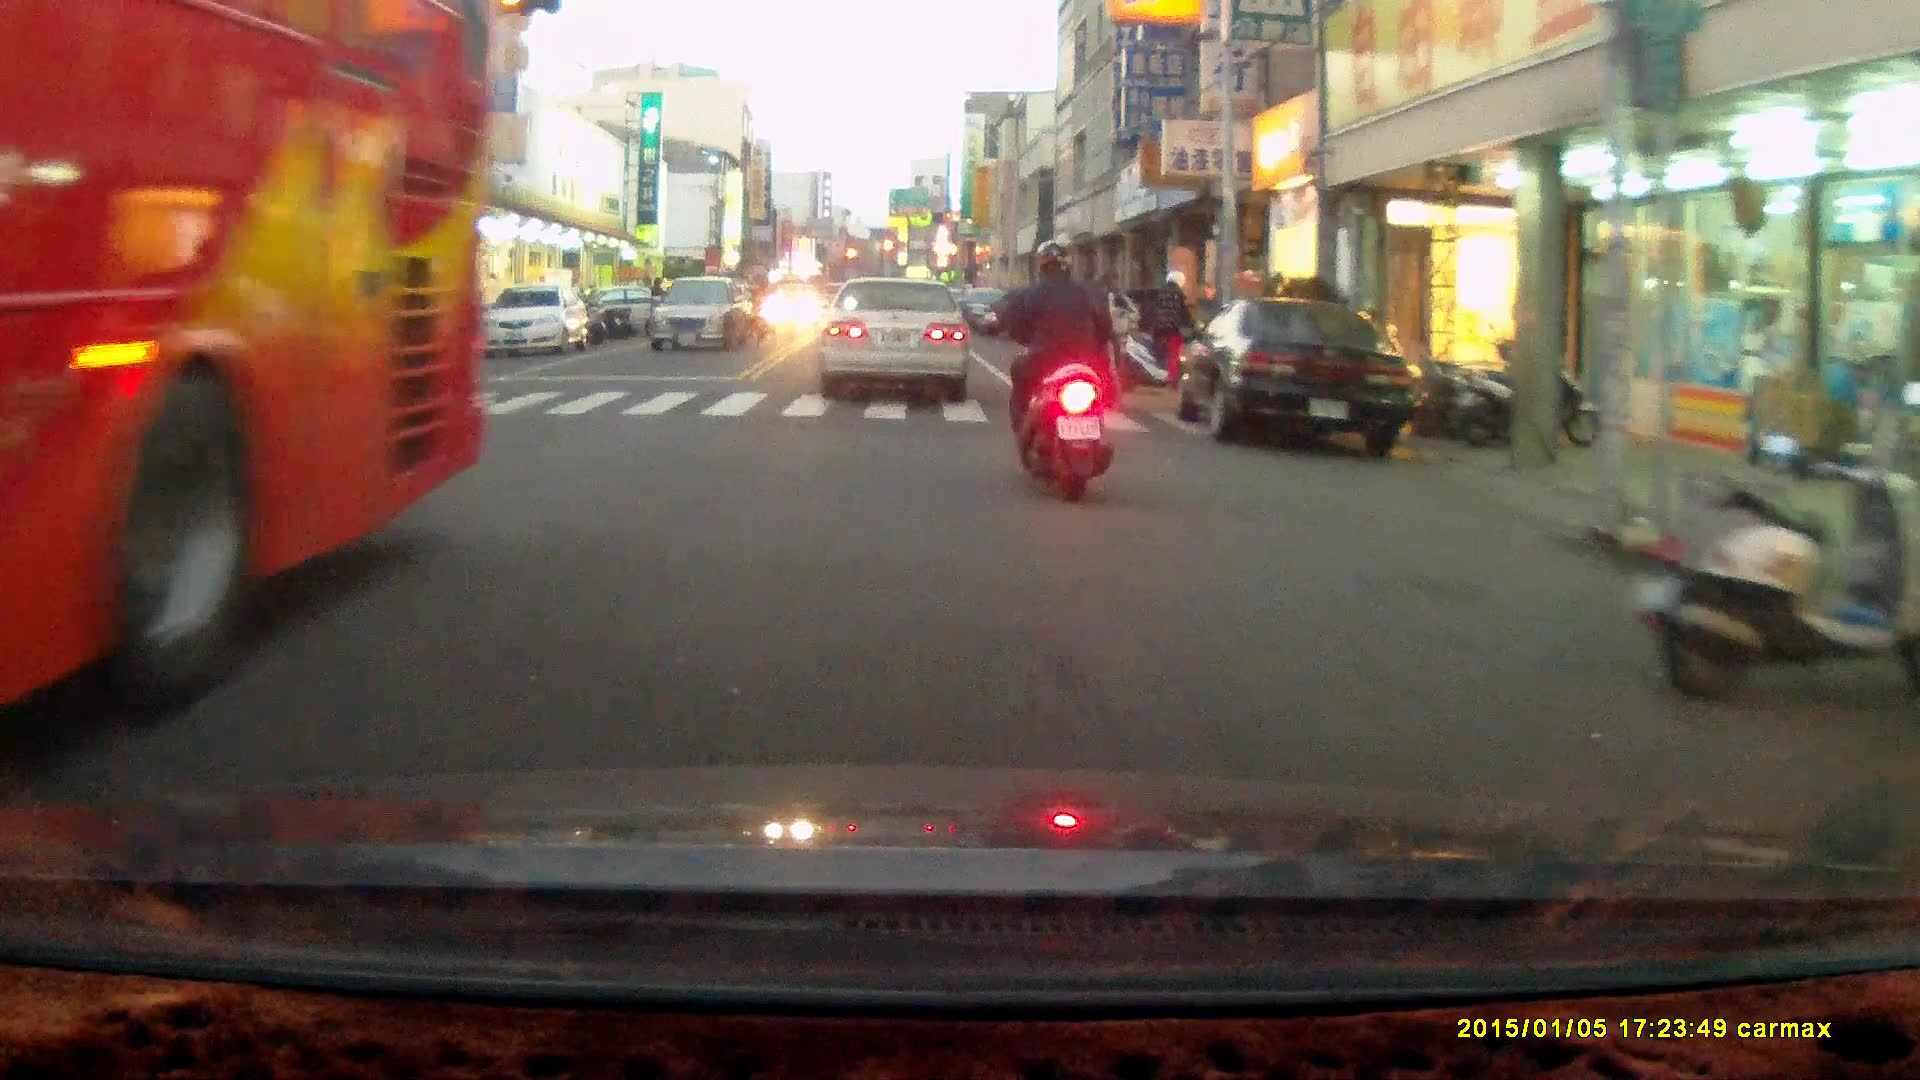pedestrian: (1157, 267, 1197, 397), (648, 277, 671, 344)
rider: (990, 240, 1116, 505)
vehicle: (1, 16, 495, 724), (1173, 302, 1428, 457), (821, 276, 977, 408), (472, 286, 585, 363), (651, 279, 751, 355)
